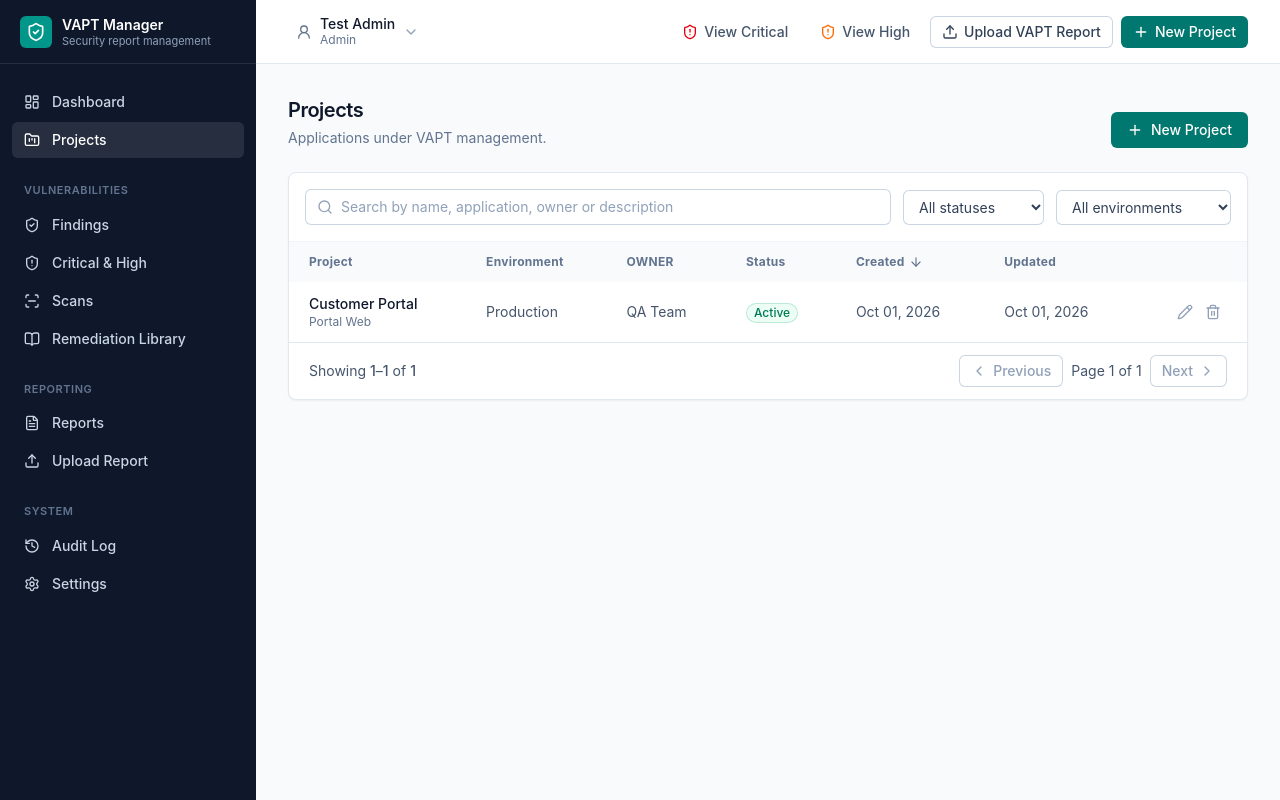
Test: ProjectsPage › deletes a project after confirmation
The image size is (1280, 800).
Click the button named "Delete Customer Portal": (1213, 312) [1199, 298, 1227, 326]
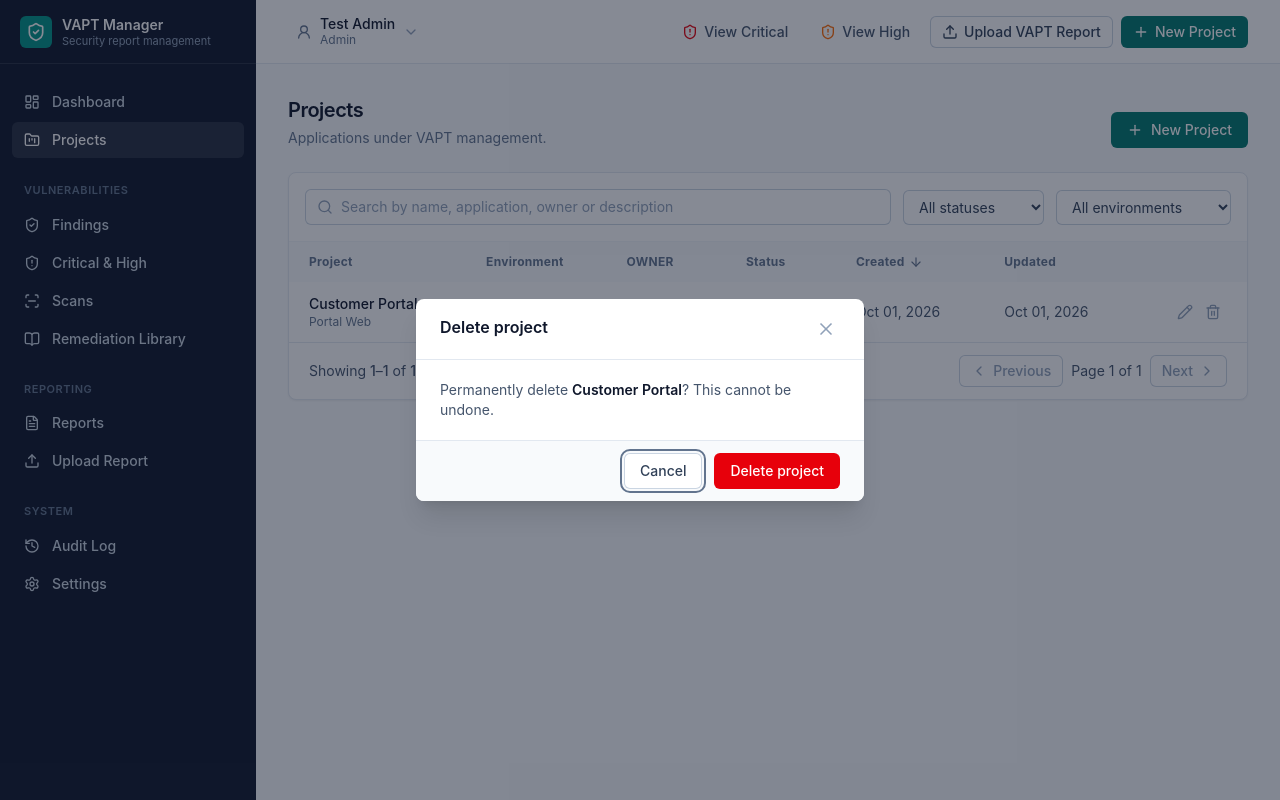
Click the button "Delete project": (777, 471) [714, 453, 840, 489]
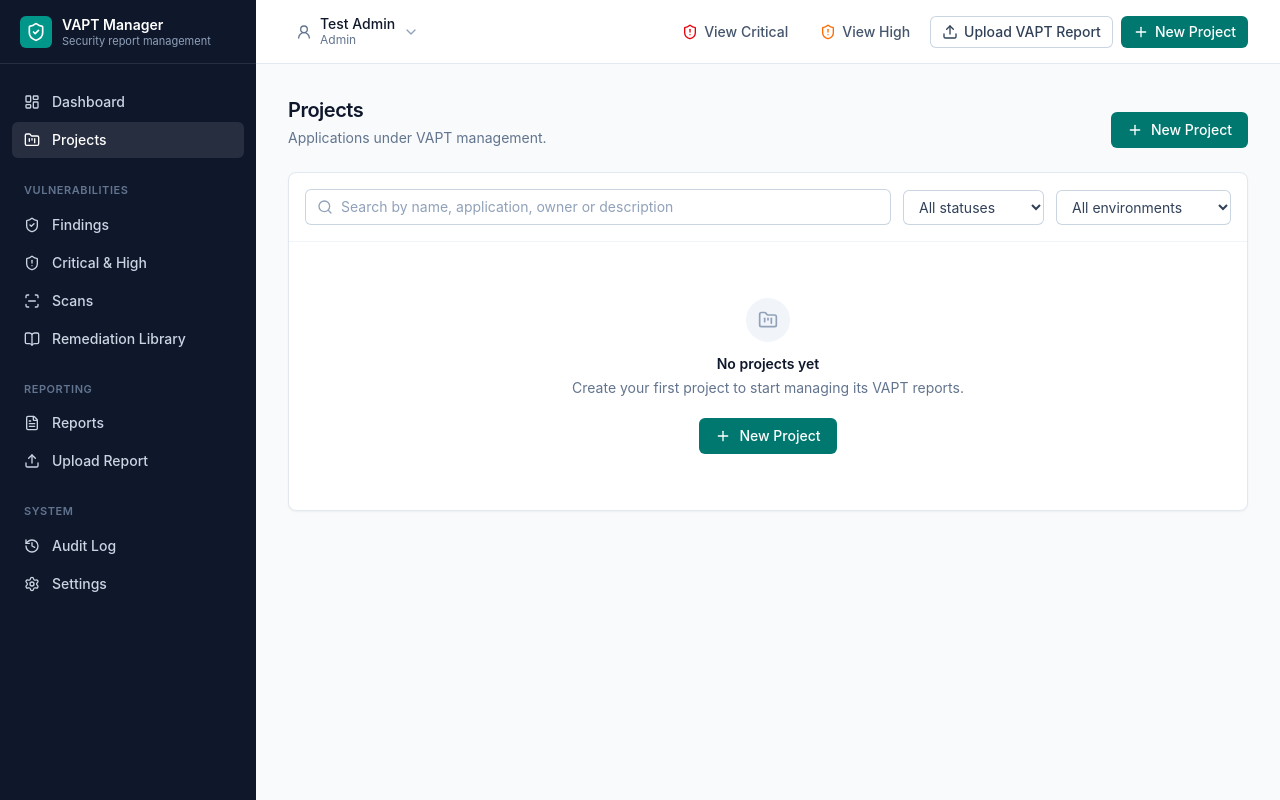
Expected: the heading "No projects yet" is shown, [717, 354, 819, 374]
